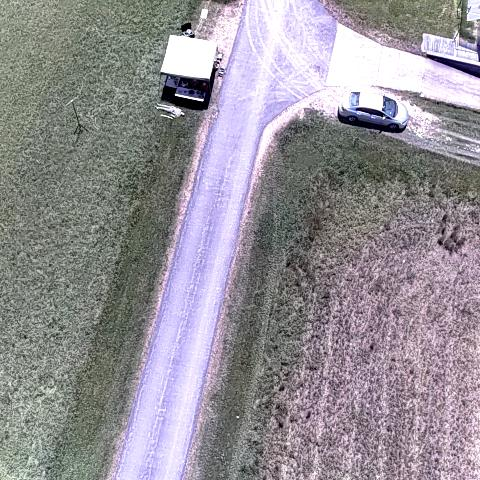person: (152, 100, 187, 116)
